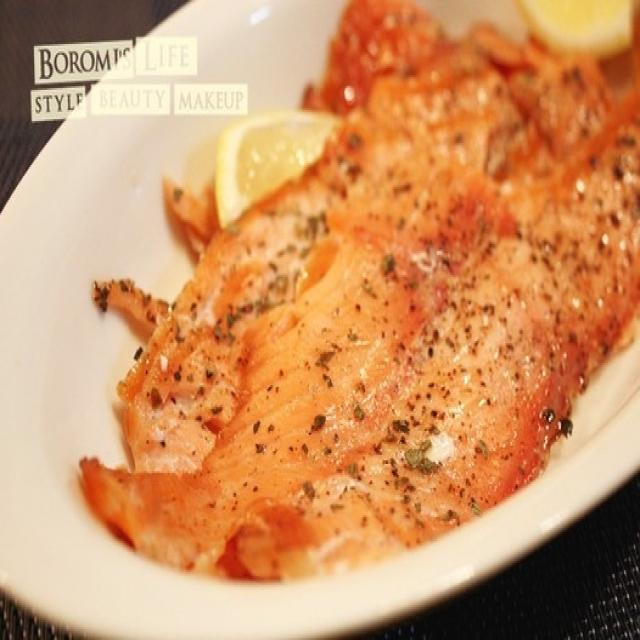熟制海鲜: (19, 9, 622, 624)
